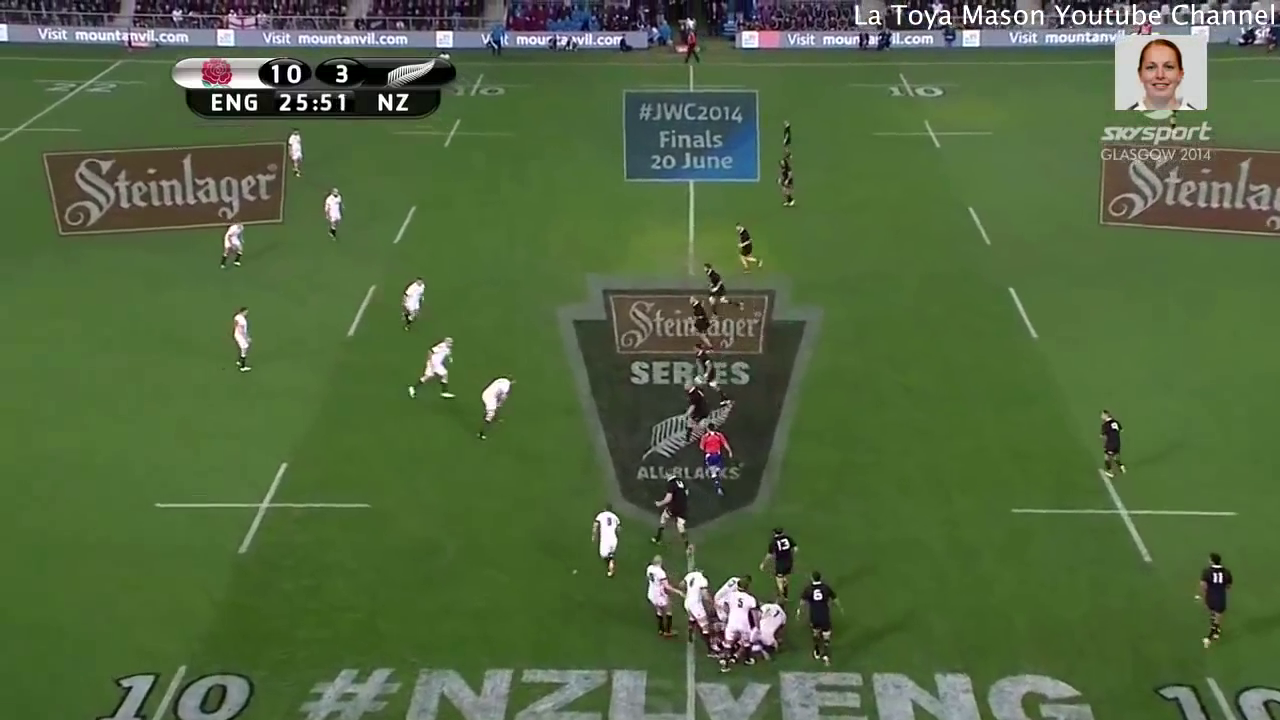10_metre: (1001, 456, 1258, 569), (144, 453, 374, 561), (83, 652, 273, 720), (1143, 665, 1280, 720), (861, 112, 1008, 158), (385, 112, 519, 155), (841, 66, 977, 100), (425, 72, 533, 106)
player: (1177, 541, 1238, 658), (793, 559, 844, 673), (637, 546, 684, 645), (711, 576, 757, 675), (647, 463, 696, 553), (673, 552, 714, 659), (1086, 396, 1135, 479), (582, 495, 627, 585), (401, 335, 456, 408), (472, 370, 524, 443), (694, 418, 739, 500), (217, 297, 262, 377), (757, 523, 800, 600), (697, 256, 749, 319), (688, 342, 734, 413), (744, 594, 790, 665), (725, 216, 770, 279), (212, 211, 257, 271), (678, 376, 718, 442), (682, 291, 719, 358), (395, 273, 433, 336), (312, 180, 345, 250), (770, 152, 803, 209), (283, 120, 313, 182), (773, 110, 801, 156)
